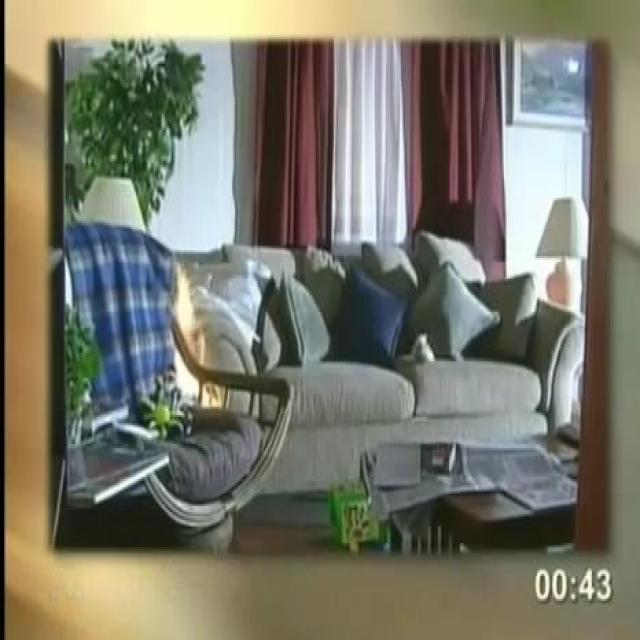smoke: (173, 249, 228, 410)
